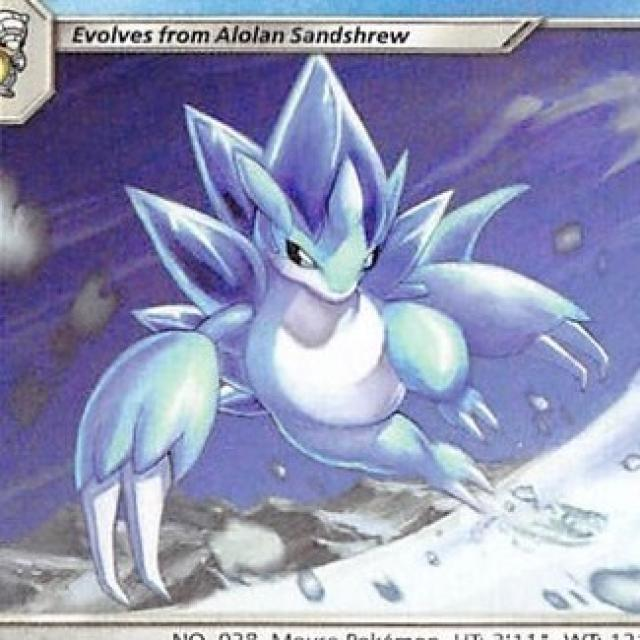Alolan: (111, 131, 500, 507)
